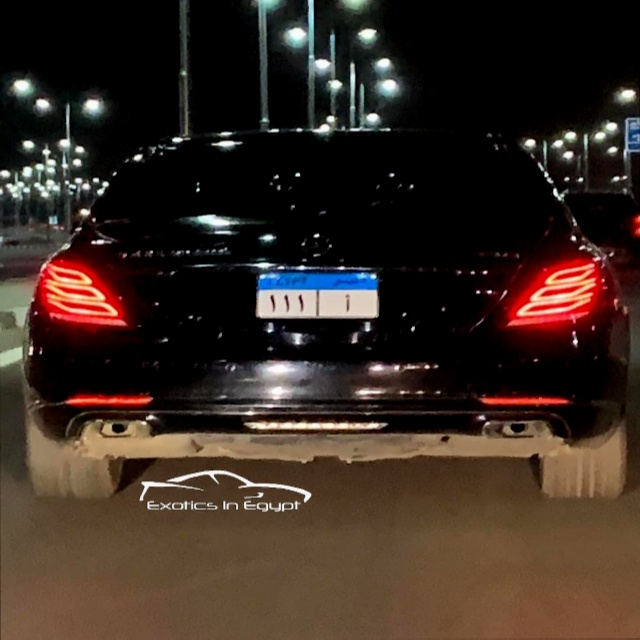License Plate: (253, 271, 382, 321)
